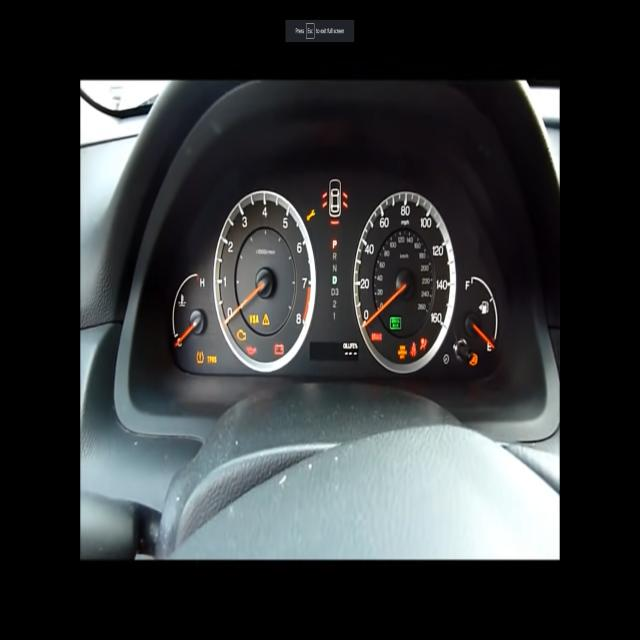Braking System Issue: (371, 332, 383, 342)
Charging System Issue: (275, 343, 284, 356)
Low Engine Oil Warning Light: (237, 329, 246, 341), (246, 346, 256, 356)
Low Tire Pressure Warning Light: (196, 349, 204, 365)
Master warning light: (262, 313, 270, 325)
SRS-Airbag: (420, 338, 428, 352)
